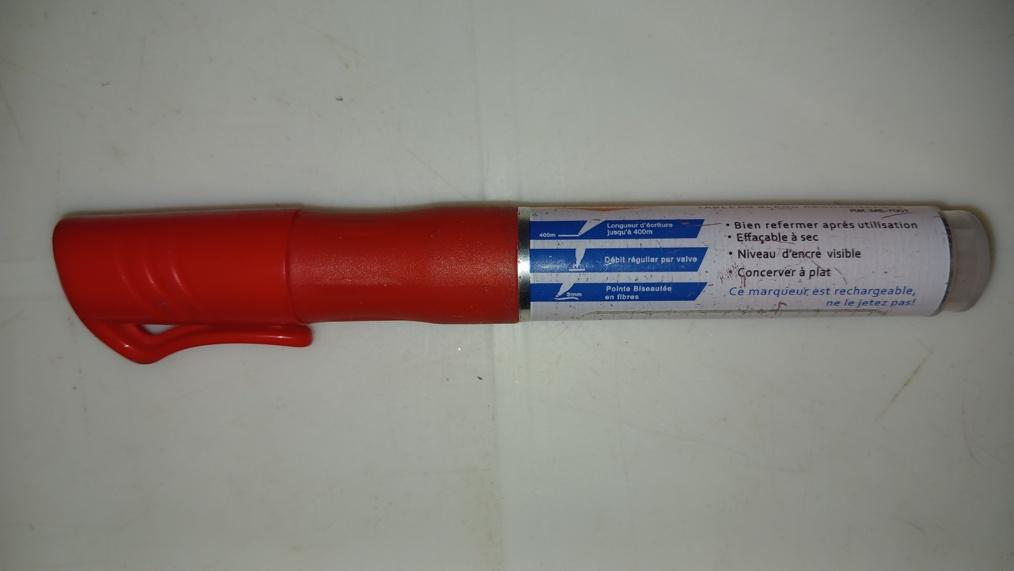Whiteboard marker: (49, 206, 997, 368)
